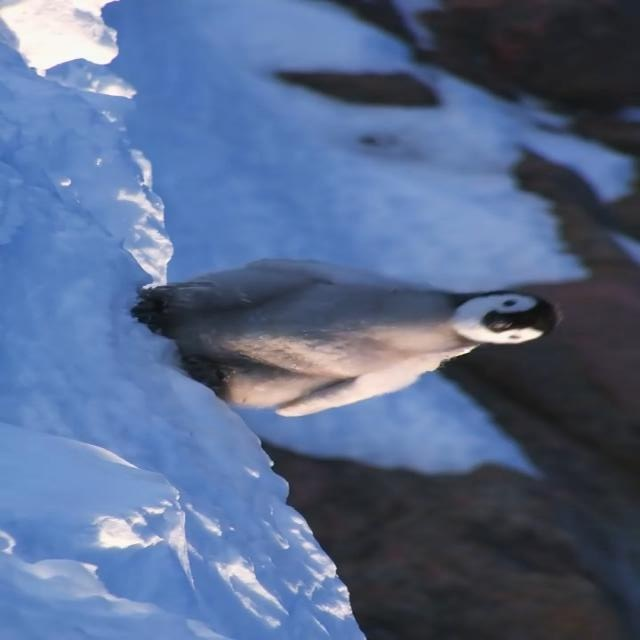penguin: (130, 255, 563, 420)
